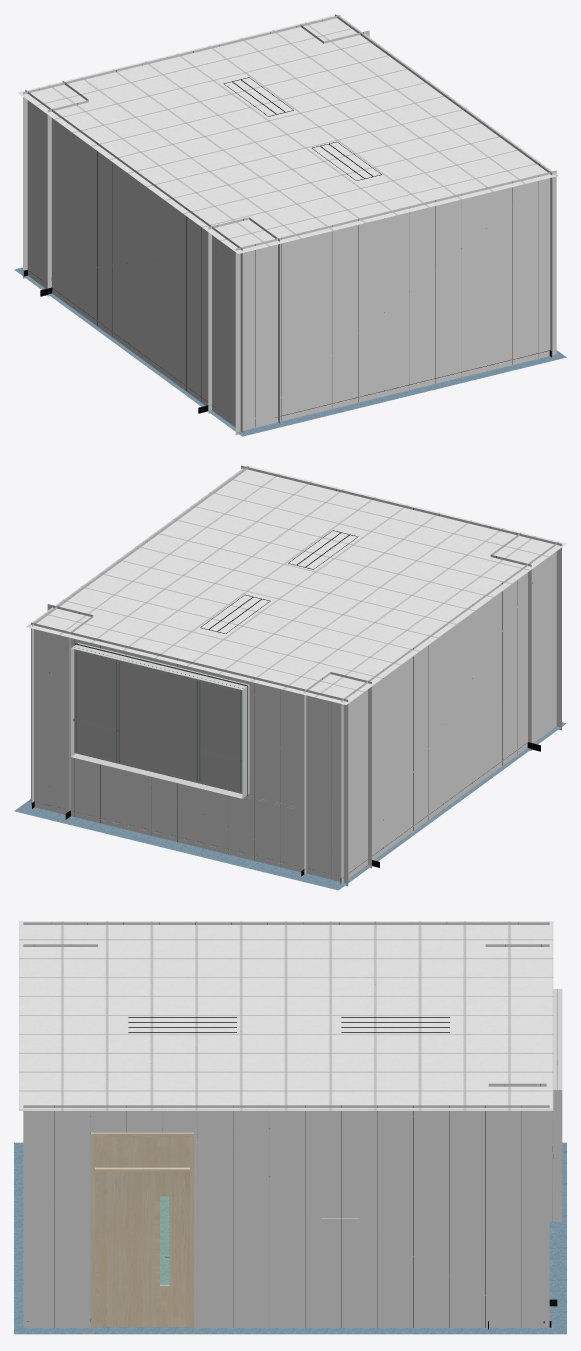
File: zhiliaoshi.fbx
3 views of the same model, one above another, from view 1: azimuth 30°, elevation 25°; view 2: azimuth 150°, elevation 25°; view 3: azimuth 270°, elevation 25° (orthographic). The views are drawn at different scales.
Visible parts, largest first — view 1: Ding, polySurface1622, polySurface1625, DiBan, polySurface1624, polySurface1626, polySurface1623, polySurface1627, TiJiaoXian1; view 2: Ding, polySurface1624, polySurface1625, Glass, DiBan, ChuangHu1, polySurface1622, polySurface1627, polySurface1623, polySurface1626, polySurface1689; view 3: Ding, polySurface1623, Men01, DiBan, polySurface1624, polySurface1625.
Boxes of the visible parts, box(x1,y1,x2,y2) form: Ding: box(18, 14, 558, 253); polySurface1622: box(235, 170, 556, 434); polySurface1625: box(25, 90, 242, 432); DiBan: box(14, 267, 566, 436); polySurface1624: box(23, 15, 340, 278); polySurface1626: box(208, 217, 279, 423); polySurface1623: box(335, 14, 552, 356); polySurface1627: box(47, 81, 88, 296); TiJiaoXian1: box(23, 270, 551, 417); Ding: box(26, 465, 566, 704); polySurface1624: box(31, 622, 348, 886); polySurface1625: box(341, 541, 558, 883); Glass: box(74, 649, 242, 793); DiBan: box(14, 722, 566, 890); ChuangHu1: box(73, 643, 247, 795); polySurface1622: box(241, 465, 561, 730); polySurface1627: box(304, 672, 371, 874); polySurface1623: box(32, 466, 248, 802); polySurface1626: box(490, 532, 531, 750); polySurface1689: box(47, 604, 93, 810); Ding: box(19, 921, 553, 1110); polySurface1623: box(23, 1105, 549, 1327); Men01: box(91, 1132, 193, 1328); DiBan: box(14, 1142, 566, 1334); polySurface1624: box(549, 989, 562, 1221); polySurface1625: box(23, 922, 549, 924).
Bounding box in the file's own units: 578 × 306 × 679.
